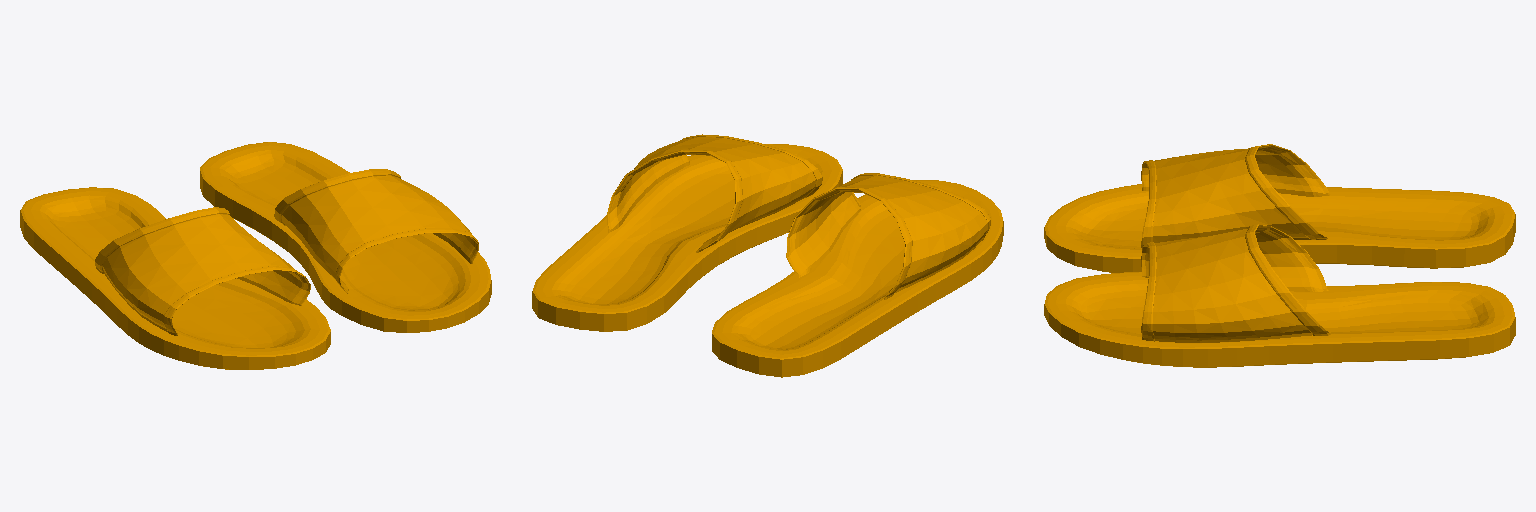
URDF robot description (none):
<robot name="none">
       <link name="none">
           <visual>
               <origin rpy="1.57 0 0" xyz="0 0 0" />
               <geometry>
                   <mesh filename="slippers.obj" />
               </geometry>
           </visual>
          <collision>
              <geometry>
                  <box size="0.843692 0.216523 1.000000" />
              </geometry>
          </collision>

          <inertial>
            <mass value="0.0" />
            <inertia ixx="0.0" ixy="0.0" ixz="0.0" iyy="0.0" iyz="0.0" izz="0.0" />
          </inertial>
      </link>
  </robot>

--- Facts derived from the render (not from the file) ---
3 views of the same robot in one strip: view 1: azimuth 30°, elevation 25°; view 2: azimuth 150°, elevation 25°; view 3: azimuth 270°, elevation 25° (orthographic).
Model none with 1 links and 0 joints (none), rooted at none, posed every joint at zero.
Visible links, largest first — view 1: none; view 2: none; view 3: none.
Link boxes in pixels (left/top/right/bottom): none: left=20, top=142, right=491, bottom=369; none: left=532, top=134, right=1003, bottom=377; none: left=1044, top=144, right=1515, bottom=367.
Size in the robot's own frame: 0.8437 by 1 by 0.2169 metres.
Meshes: 1 distinct files referenced, 1 mesh visuals loaded (1 OBJ).